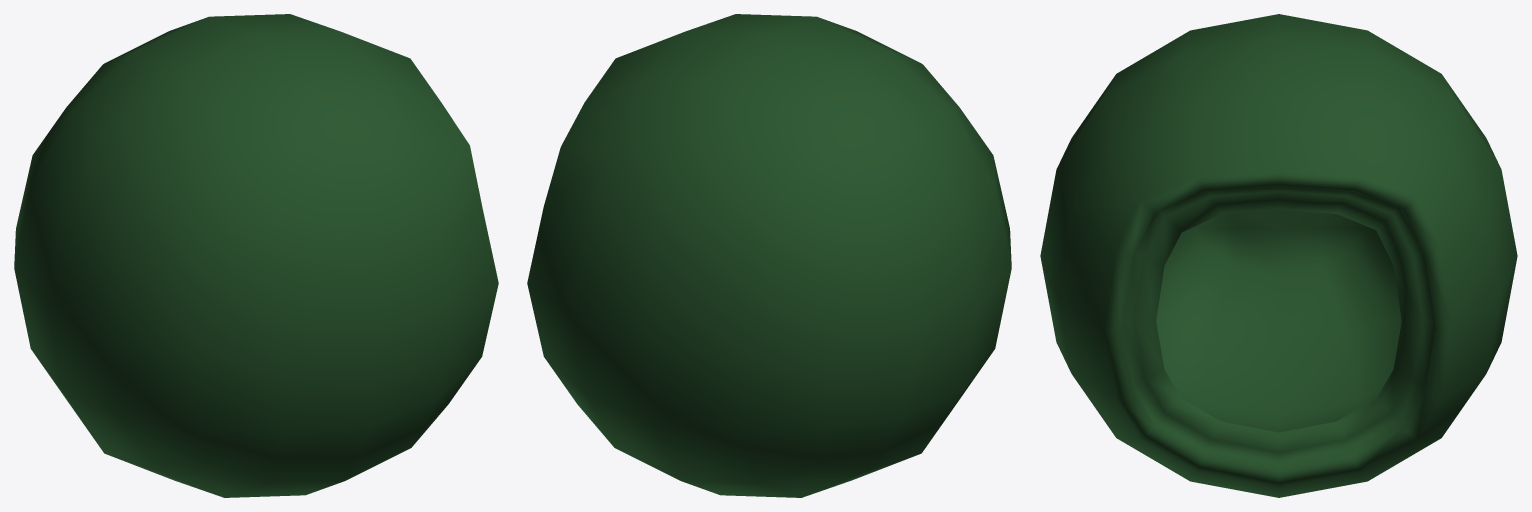
Rendered from Coconut_V2.fbx.
3 views of the same model, side by side, from view 1: azimuth 30°, elevation 25°; view 2: azimuth 150°, elevation 25°; view 3: azimuth 270°, elevation 25° (orthographic).
Visible parts, largest first — view 1: Coconut; view 2: Coconut; view 3: Coconut.
Boxes of the visible parts, bbox=[...] form: Coconut: bbox=[14, 14, 498, 497]; Coconut: bbox=[527, 14, 1011, 497]; Coconut: bbox=[1040, 14, 1517, 497].
Bounding box in the file's own units: 293 × 338 × 338.
